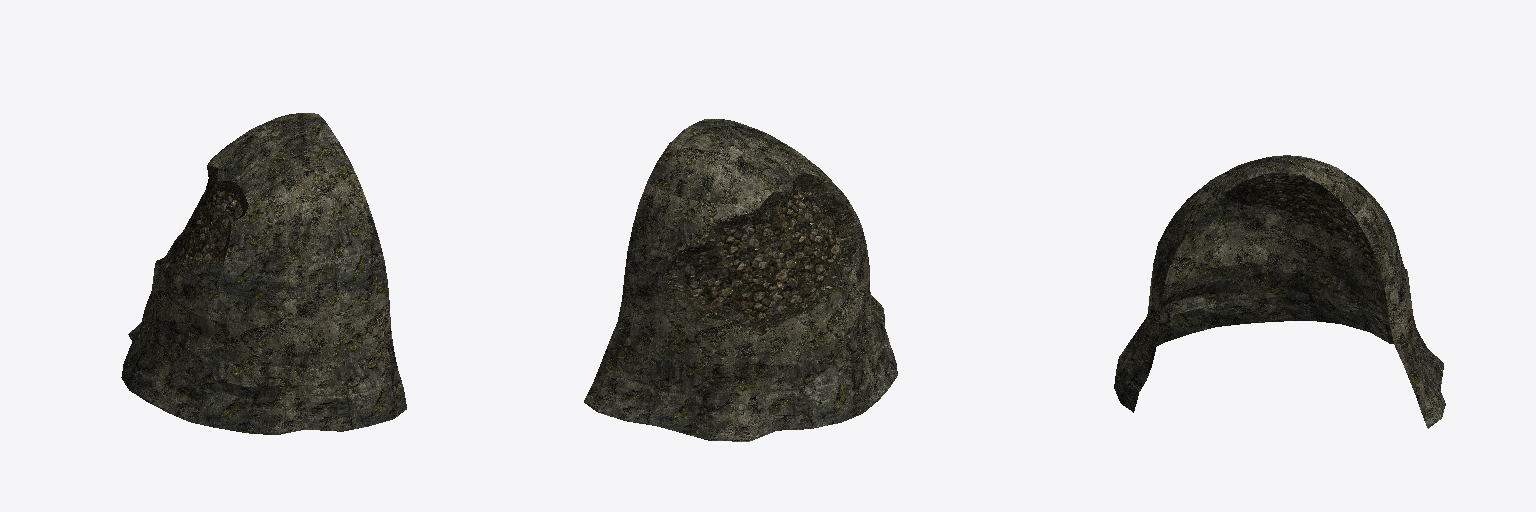
3 renders of one model, left to right at view 1: azimuth 30°, elevation 25°; view 2: azimuth 150°, elevation 25°; view 3: azimuth 270°, elevation 25°, orthographic.
Visible parts, largest first — view 1: mesh2, mesh1, mesh0; view 2: mesh2, mesh1, mesh0; view 3: mesh2, mesh1, mesh0.
Part boxes in pixels (left/top/right/bottom): mesh2: left=121, top=113, right=406, bottom=434; mesh1: left=167, top=179, right=242, bottom=262; mesh0: left=155, top=166, right=248, bottom=269; mesh2: left=584, top=119, right=897, bottom=441; mesh1: left=684, top=191, right=840, bottom=321; mesh0: left=665, top=174, right=857, bottom=335; mesh2: left=1114, top=155, right=1445, bottom=428; mesh1: left=1242, top=176, right=1376, bottom=262; mesh0: left=1225, top=173, right=1406, bottom=269.
Bounding box in the file's own units: 10.56 × 10.84 × 13.69.
Materials: 3 (3 with a texture image).